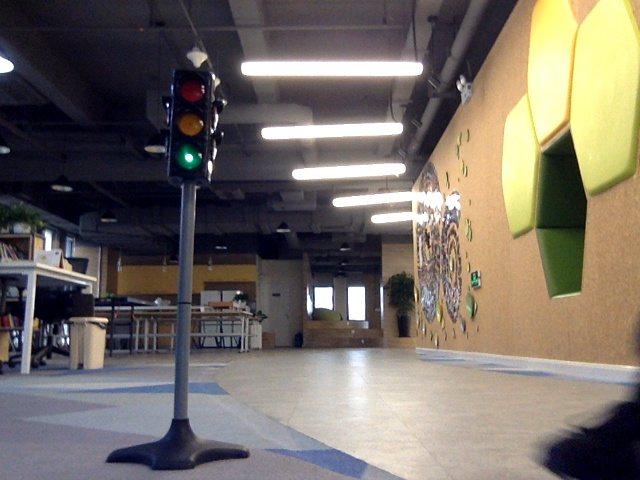green: (173, 72, 205, 174)
